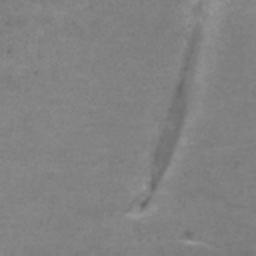Finishing roll printing: (137, 0, 212, 214)
